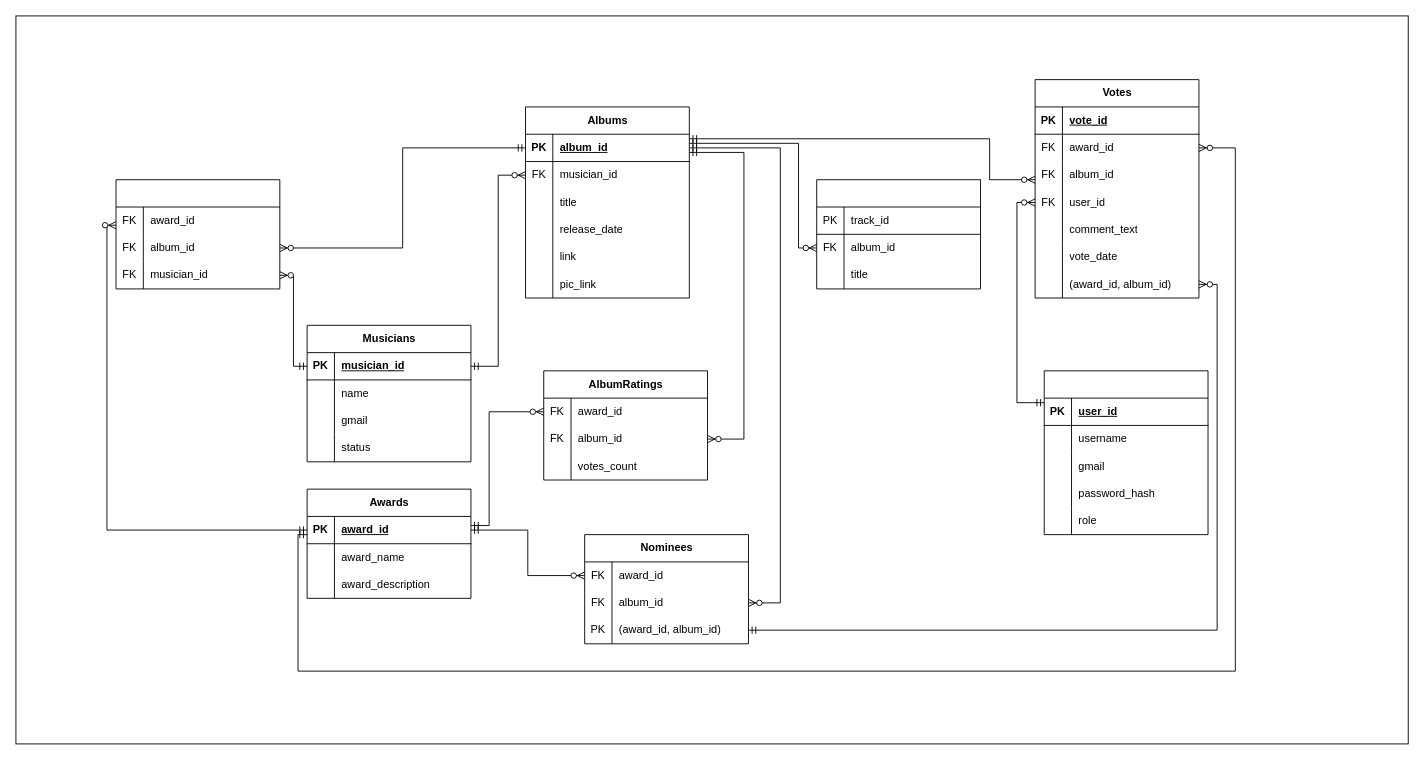
Image size: 1424x760. Some labels were removed from this diagram. Here are the shapes that lost their labels. From the top down, the box of each, then its label:
(115, 179, 280, 289): Winners
(816, 179, 981, 289): Music
(1043, 370, 1208, 535): Users
